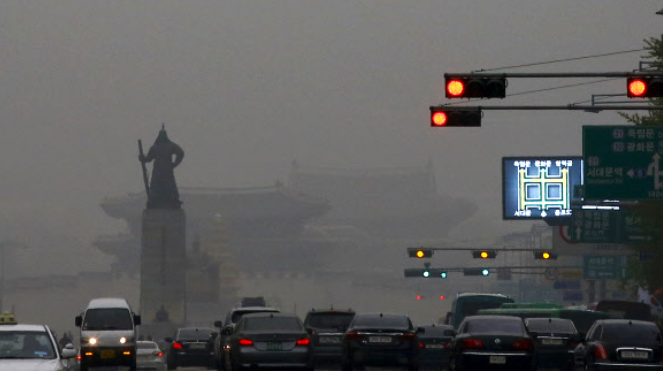bus: (474, 301, 610, 370), (444, 291, 516, 362)
car: (217, 313, 314, 371), (336, 310, 426, 371), (442, 314, 538, 371), (74, 296, 142, 371), (213, 304, 289, 371), (572, 319, 663, 371), (1, 310, 77, 371), (581, 299, 658, 359), (302, 309, 364, 370), (521, 317, 585, 371), (165, 326, 222, 371), (411, 323, 456, 368), (116, 338, 167, 371)
